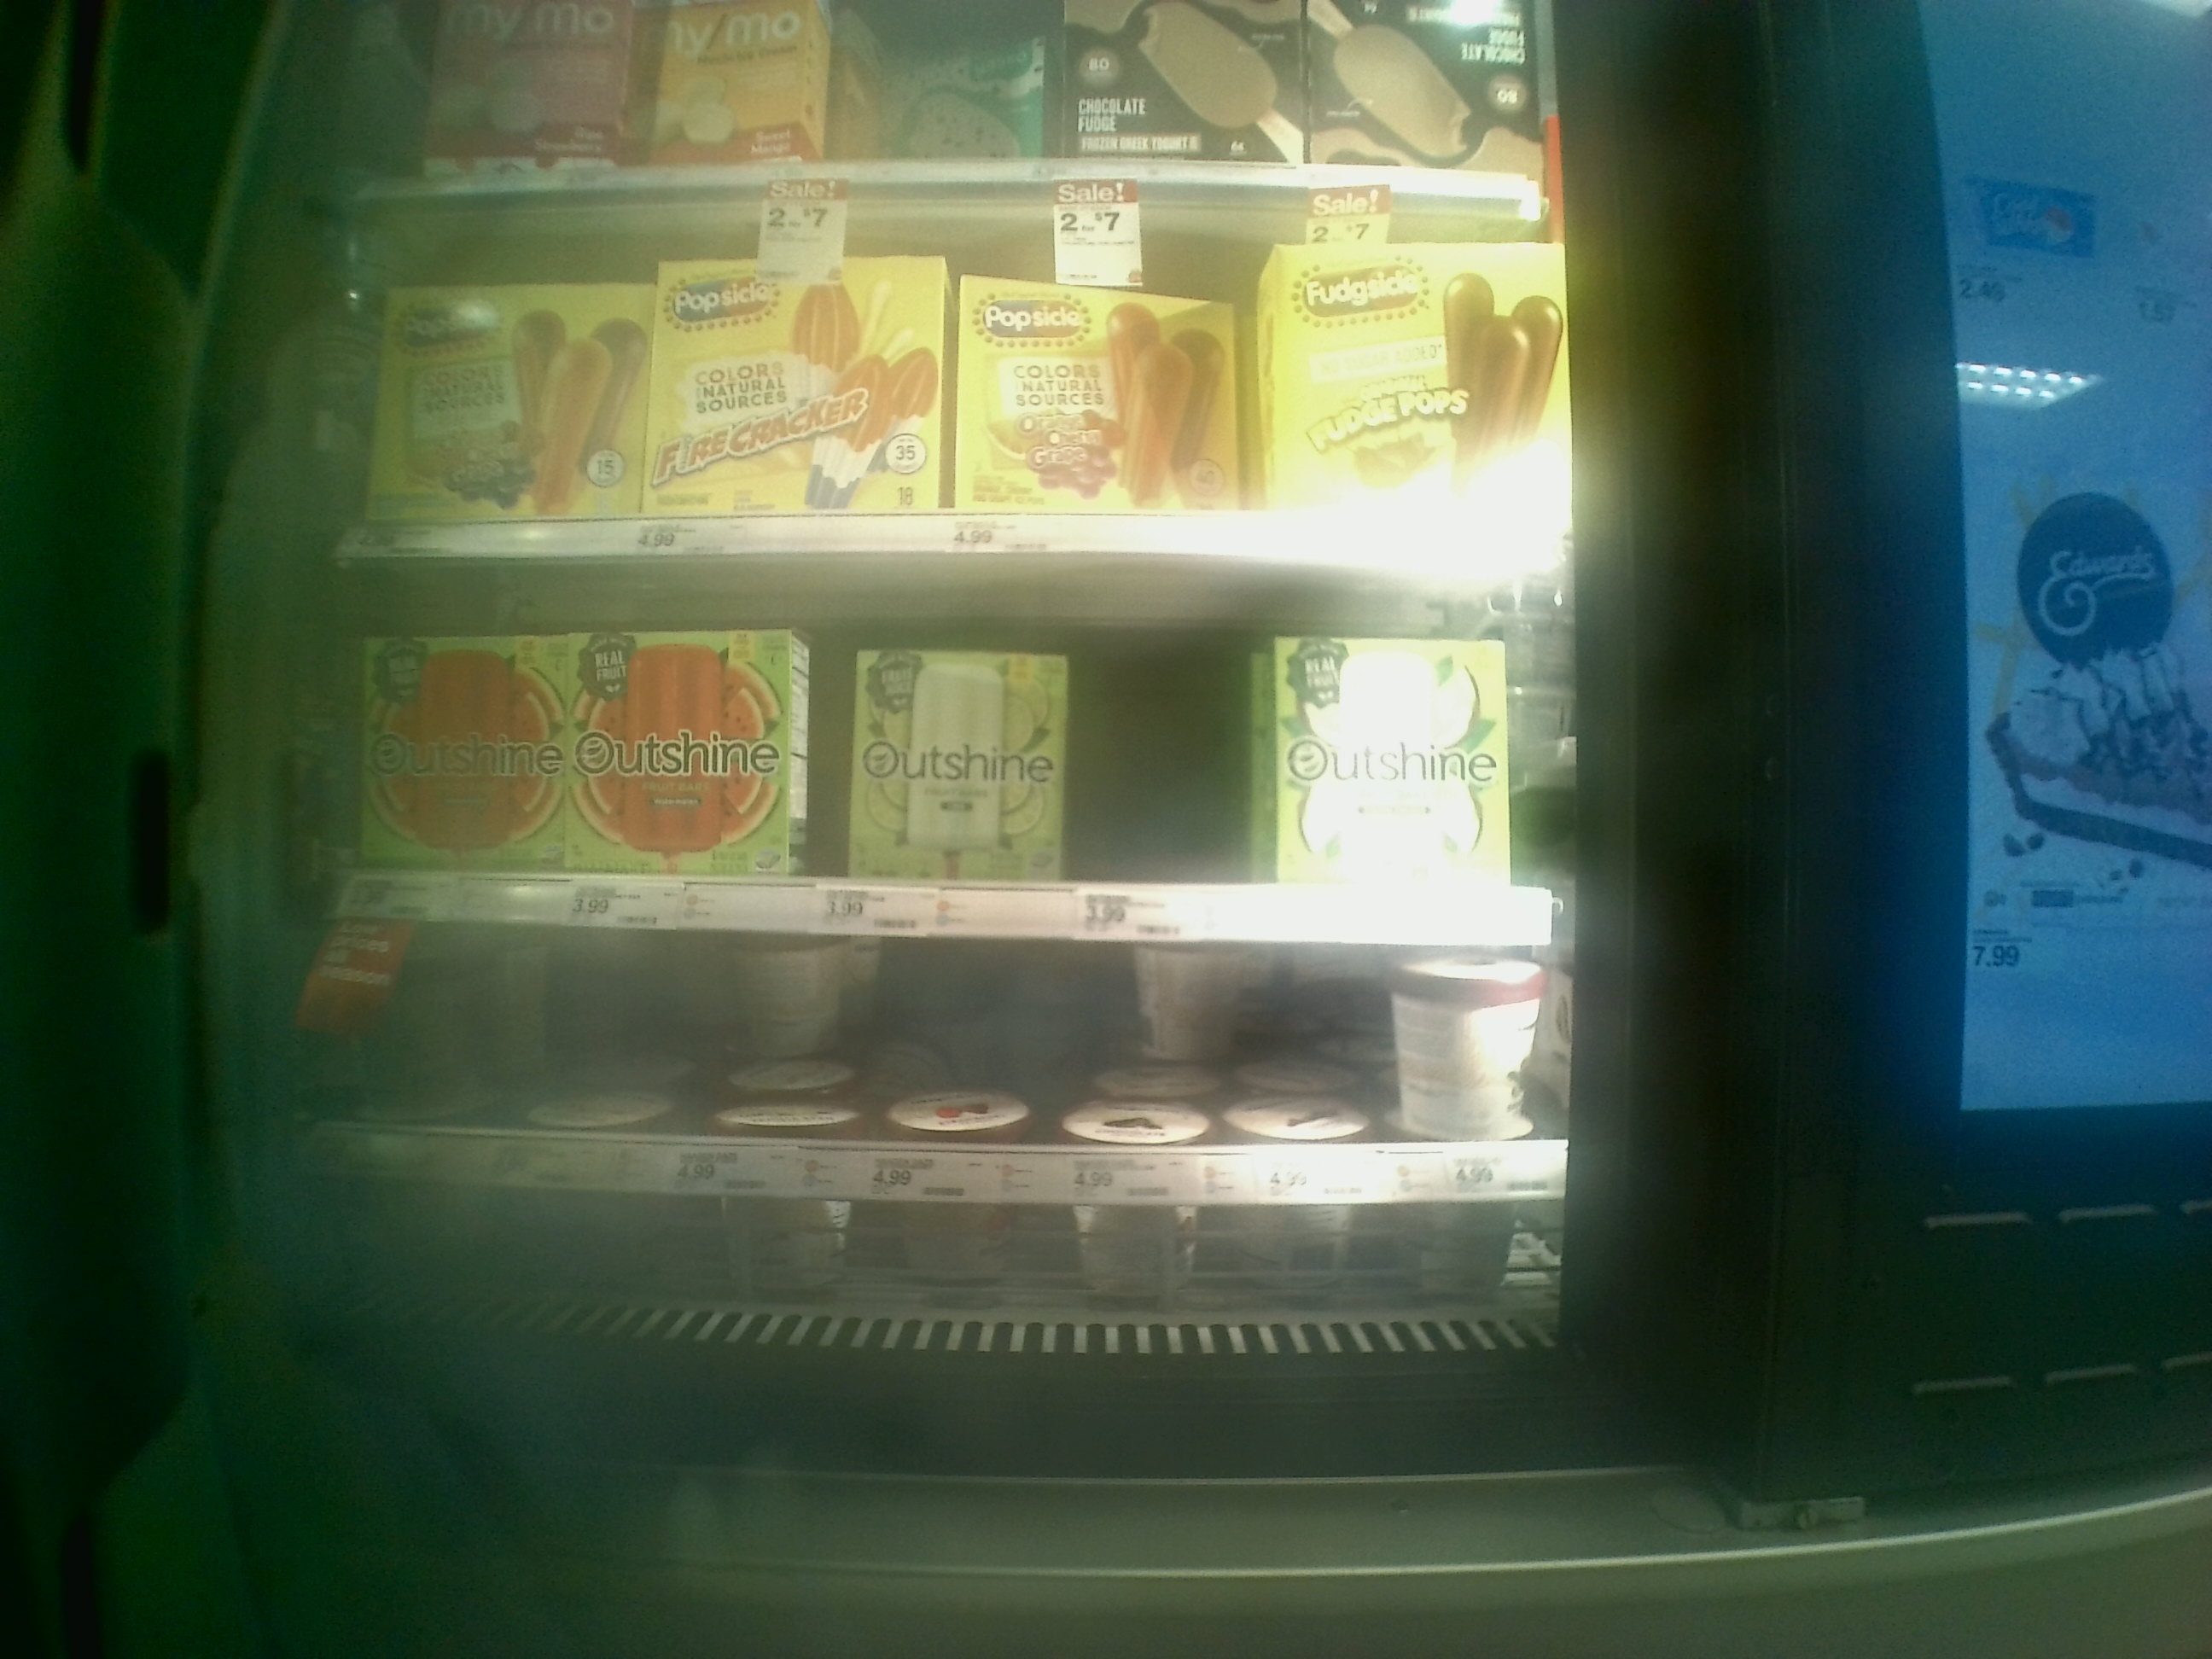ice-cream-shelf: (354, 563, 1575, 924), (343, 207, 1561, 559), (329, 917, 1576, 1185)
